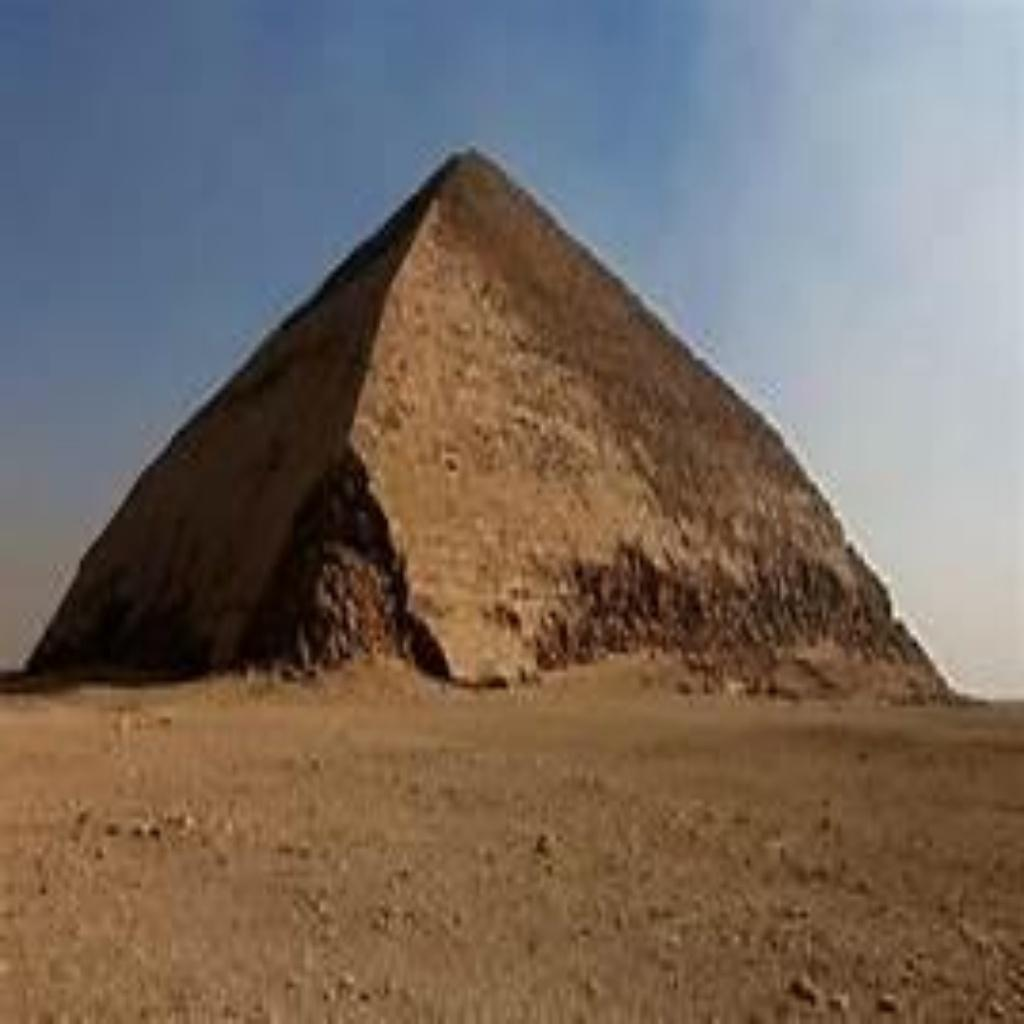Bent Pyramid of King Sneferu: (23, 136, 959, 700)
